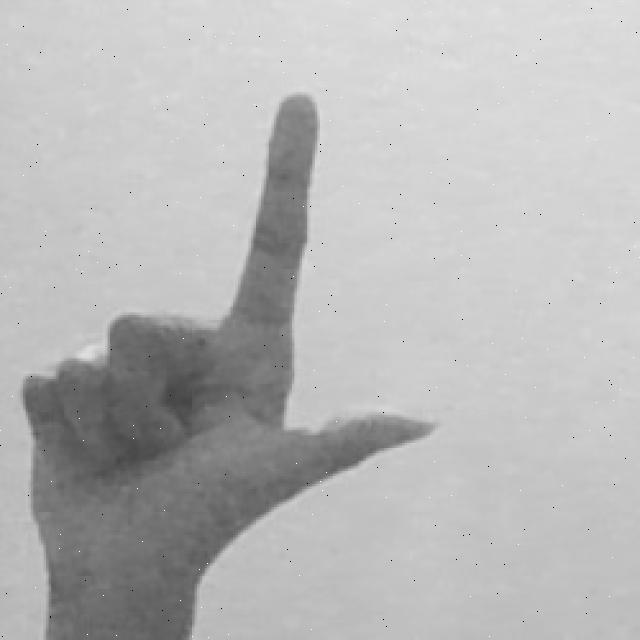L: (19, 88, 448, 640)
